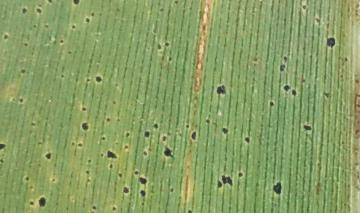tarspot: (270, 181, 284, 196), (161, 145, 175, 159), (220, 174, 234, 188), (214, 84, 229, 97), (105, 149, 120, 160), (325, 36, 337, 49), (301, 122, 315, 133), (37, 195, 48, 208), (136, 176, 149, 186), (121, 185, 131, 197), (94, 74, 104, 85), (80, 121, 90, 132), (190, 130, 199, 142), (138, 188, 147, 200), (33, 5, 43, 15), (215, 179, 225, 189), (290, 88, 300, 98), (143, 129, 153, 139), (151, 121, 162, 130), (203, 115, 212, 126), (129, 169, 142, 176), (1, 33, 11, 42), (43, 151, 53, 160), (17, 95, 26, 105), (279, 63, 287, 74), (163, 39, 172, 48), (221, 126, 230, 135), (282, 84, 292, 92), (122, 130, 132, 138), (168, 185, 176, 195), (82, 168, 93, 175), (21, 7, 29, 16), (267, 100, 276, 108), (27, 199, 36, 207), (244, 135, 252, 144), (49, 176, 58, 184), (106, 162, 115, 170), (19, 68, 29, 75), (70, 1, 81, 7), (1, 141, 7, 152), (160, 134, 168, 142), (76, 142, 85, 149), (23, 175, 32, 182), (99, 135, 108, 142), (110, 205, 119, 212), (342, 56, 351, 63), (185, 207, 195, 213), (23, 41, 30, 49), (300, 4, 308, 11), (117, 172, 124, 180), (85, 158, 93, 165), (105, 116, 112, 124), (142, 149, 150, 156), (167, 55, 174, 63), (98, 150, 104, 159), (85, 17, 92, 24), (59, 38, 66, 45), (81, 106, 88, 113), (123, 144, 130, 151), (283, 54, 289, 62), (237, 171, 243, 179), (1, 157, 6, 166), (90, 11, 97, 17), (71, 23, 77, 30), (90, 202, 96, 209), (140, 201, 146, 207), (46, 1, 54, 5), (185, 124, 190, 129)
